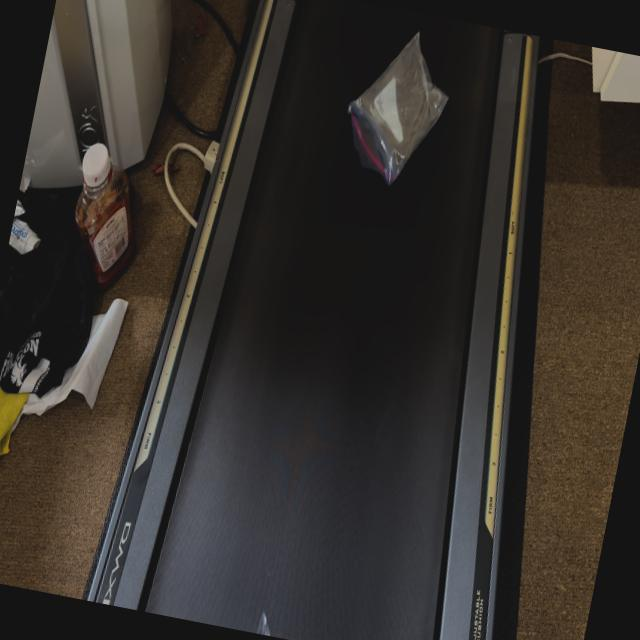Trash: (334, 21, 461, 196)
